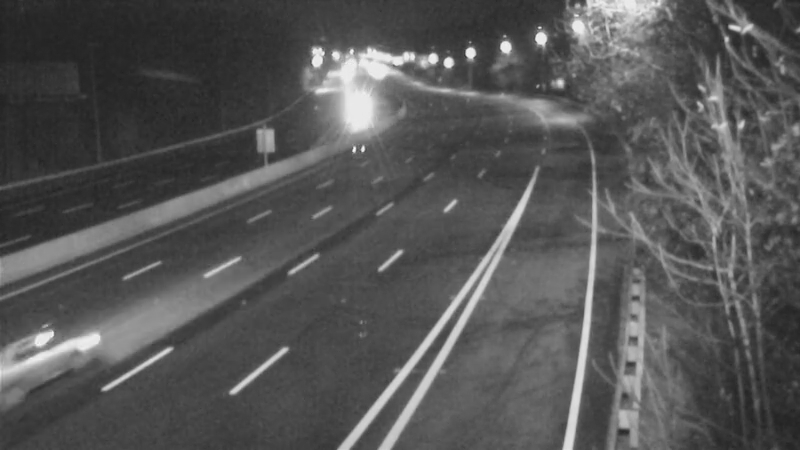vehicle: (1, 298, 108, 408), (328, 87, 378, 137)
